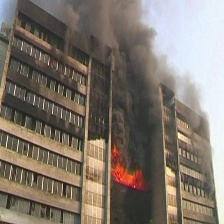fire: (110, 149, 151, 192)
smoke: (48, 1, 190, 154)
